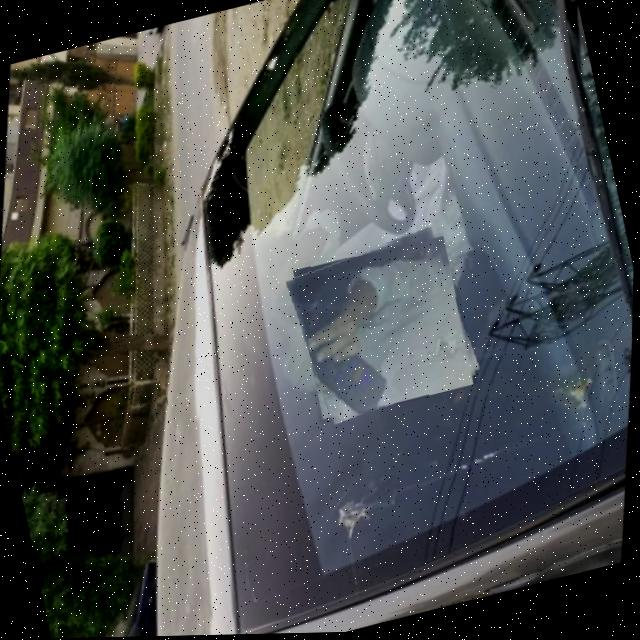no-seatbelt: (285, 227, 482, 424)
